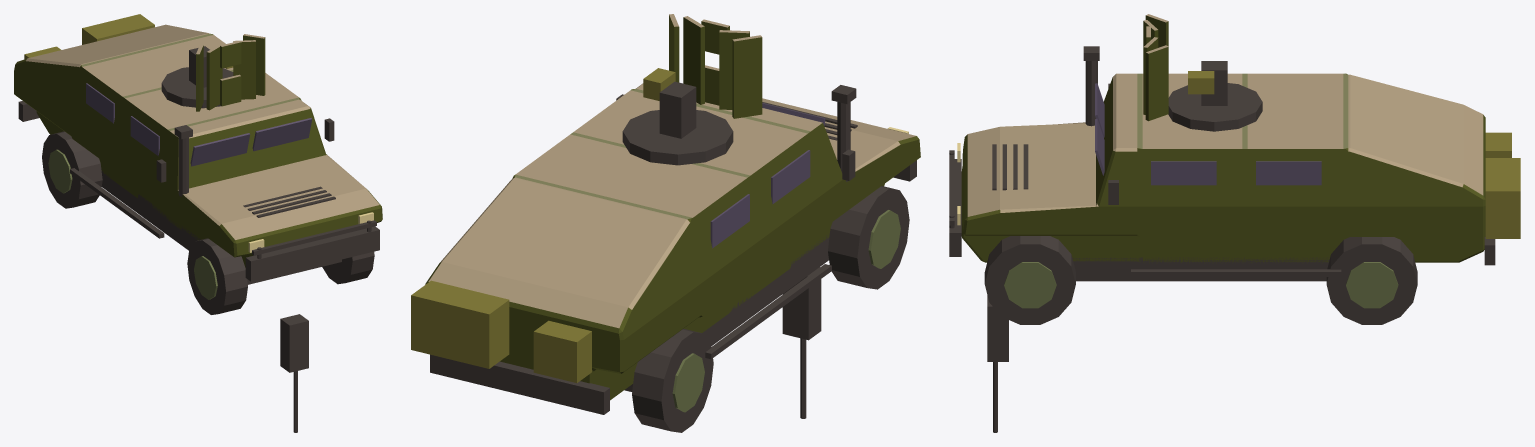
The model's file is SM_Vamtac_Animable_v1_Liso_LOD0.fbx.
3 views of the same model, side by side, from view 1: azimuth 30°, elevation 25°; view 2: azimuth 150°, elevation 25°; view 3: azimuth 270°, elevation 25° (orthographic). The views are drawn at different scales.
Visible parts, largest first — view 1: SM_bloques.vamtac_animable_v1_LOD0, Aro, Rueda_1R, Rueda_2R, Ametralladora, Rueda_1L; view 2: SM_bloques.vamtac_animable_v1_LOD0, Aro, Rueda_2R, Rueda_1R, Ametralladora; view 3: SM_bloques.vamtac_animable_v1_LOD0, Aro, Rueda_1L, Rueda_2L, Ametralladora.
Part boxes in pixels (<box>): SM_bloques.vamtac_animable_v1_LOD0: <box>14,14,382,284</box>; Aro: <box>161,34,265,111</box>; Rueda_1R: <box>187,238,247,314</box>; Rueda_2R: <box>42,131,102,208</box>; Ametralladora: <box>280,314,308,432</box>; Rueda_1L: <box>322,251,374,284</box>; SM_bloques.vamtac_animable_v1_LOD0: <box>411,83,920,414</box>; Aro: <box>622,14,762,165</box>; Rueda_2R: <box>632,328,713,432</box>; Rueda_1R: <box>828,186,909,289</box>; Ametralladora: <box>782,267,821,418</box>; SM_bloques.vamtac_animable_v1_LOD0: <box>949,46,1520,281</box>; Aro: <box>1143,14,1262,131</box>; Rueda_1L: <box>984,236,1075,324</box>; Rueda_2L: <box>1326,237,1417,324</box>; Ametralladora: <box>987,295,1008,432</box>.
Bounding box in the file's own units: 2.68 × 5.04 × 6.52.
